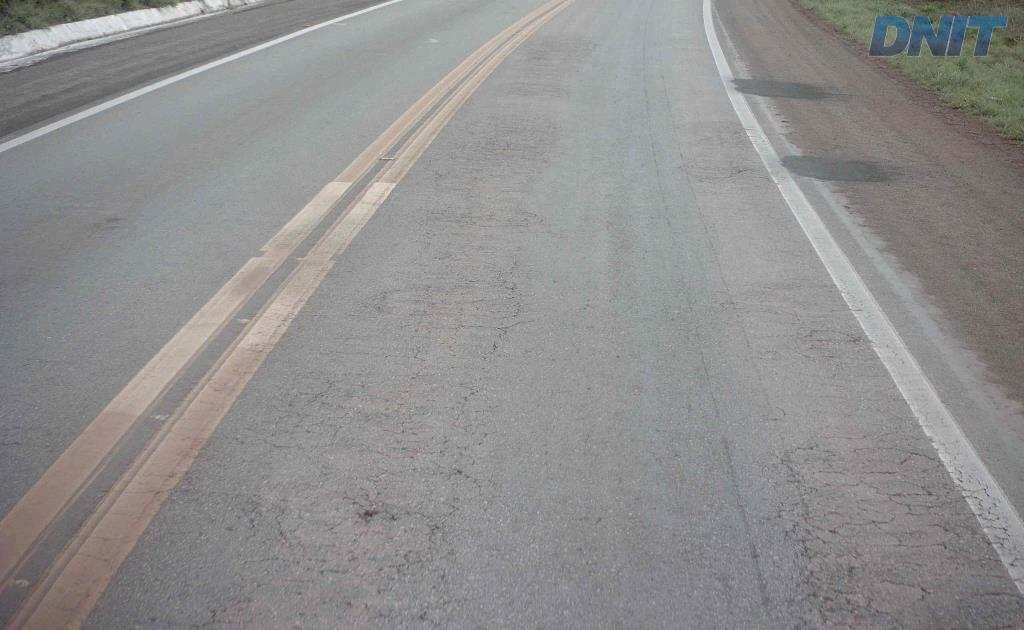crack: (868, 481, 940, 516), (981, 585, 1018, 629)
